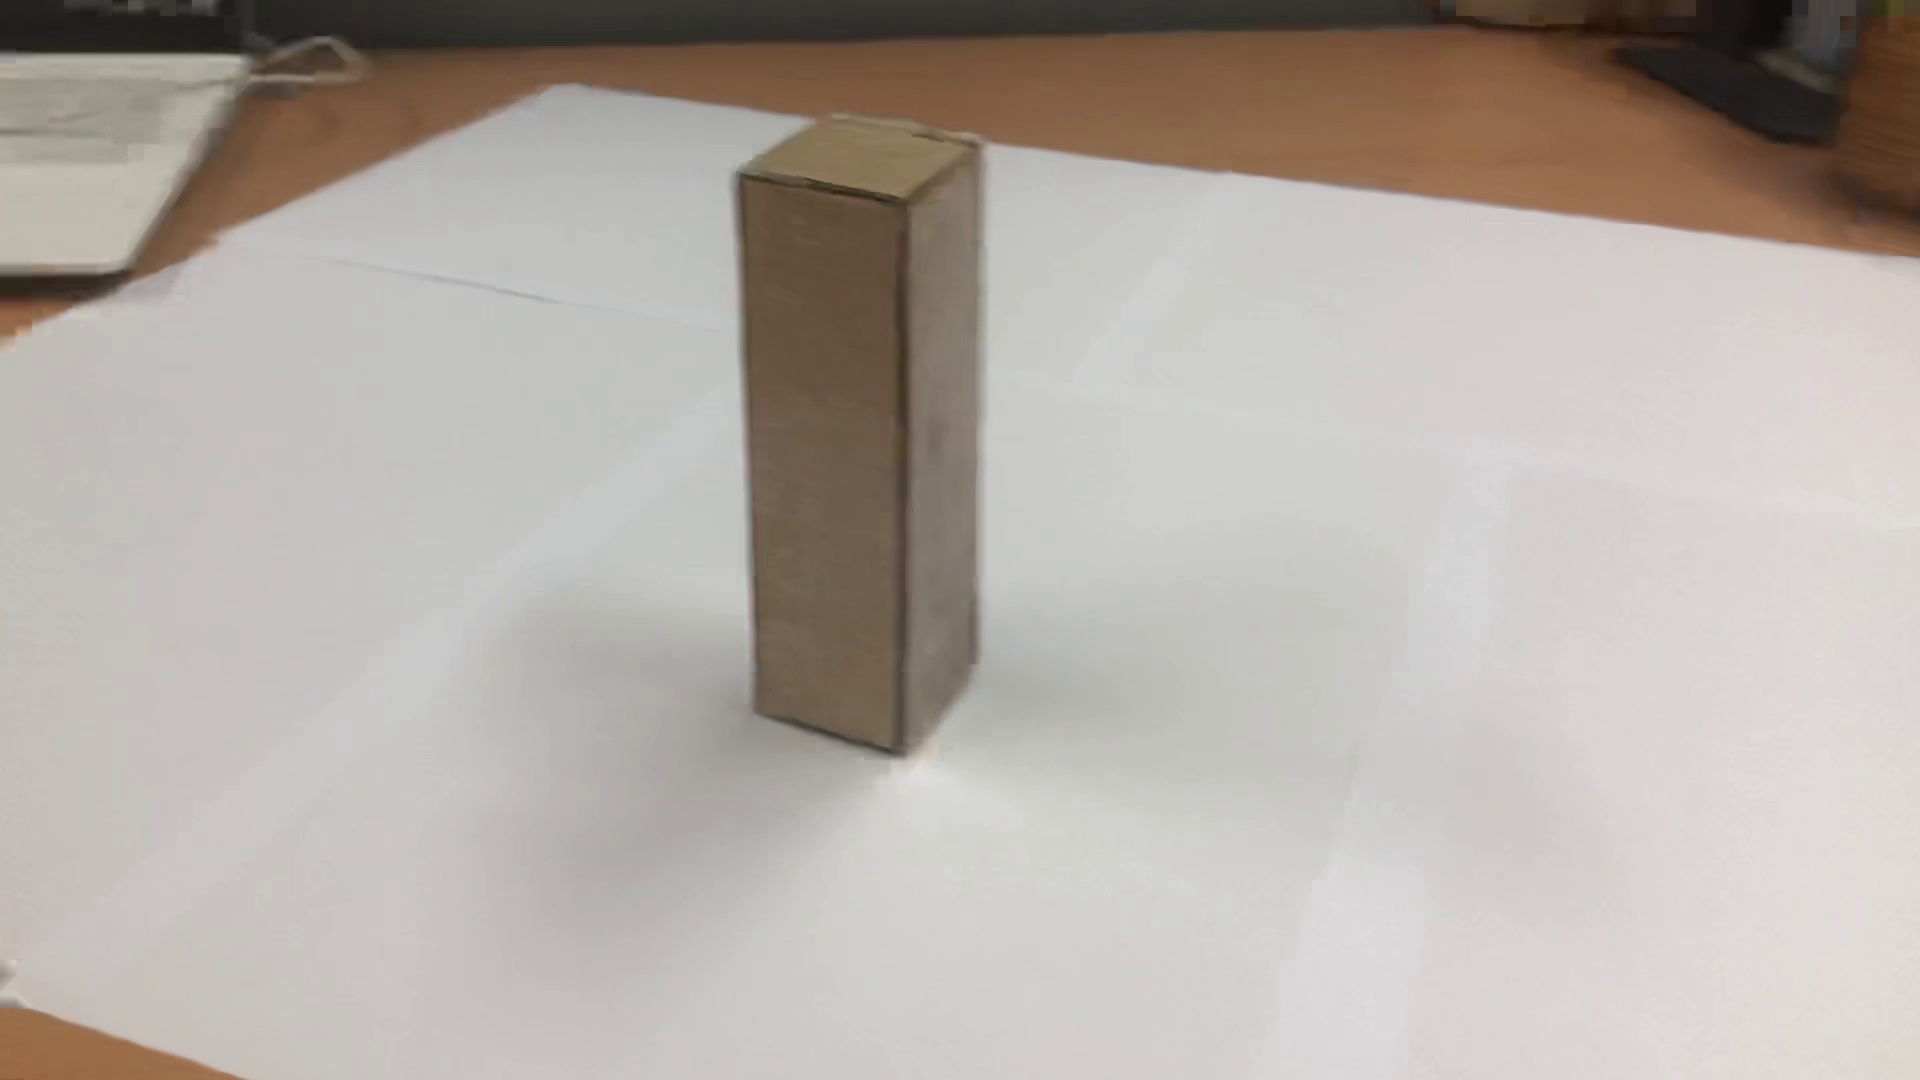box: (694, 80, 1009, 789)
